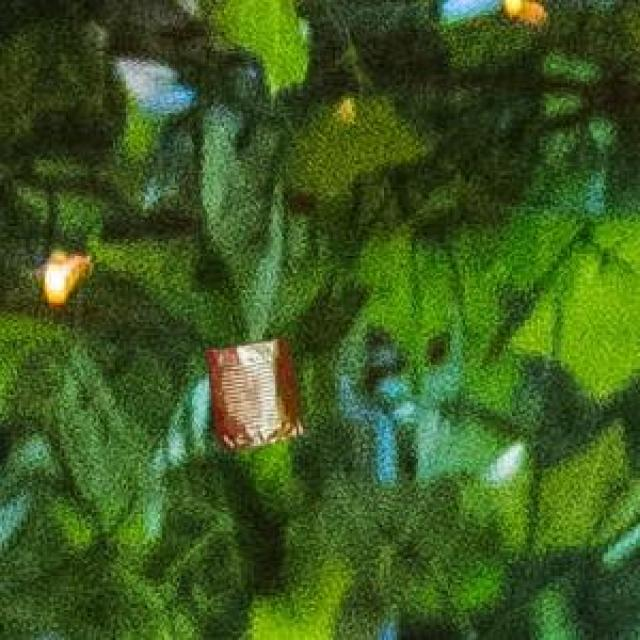logam: (202, 336, 300, 445)
